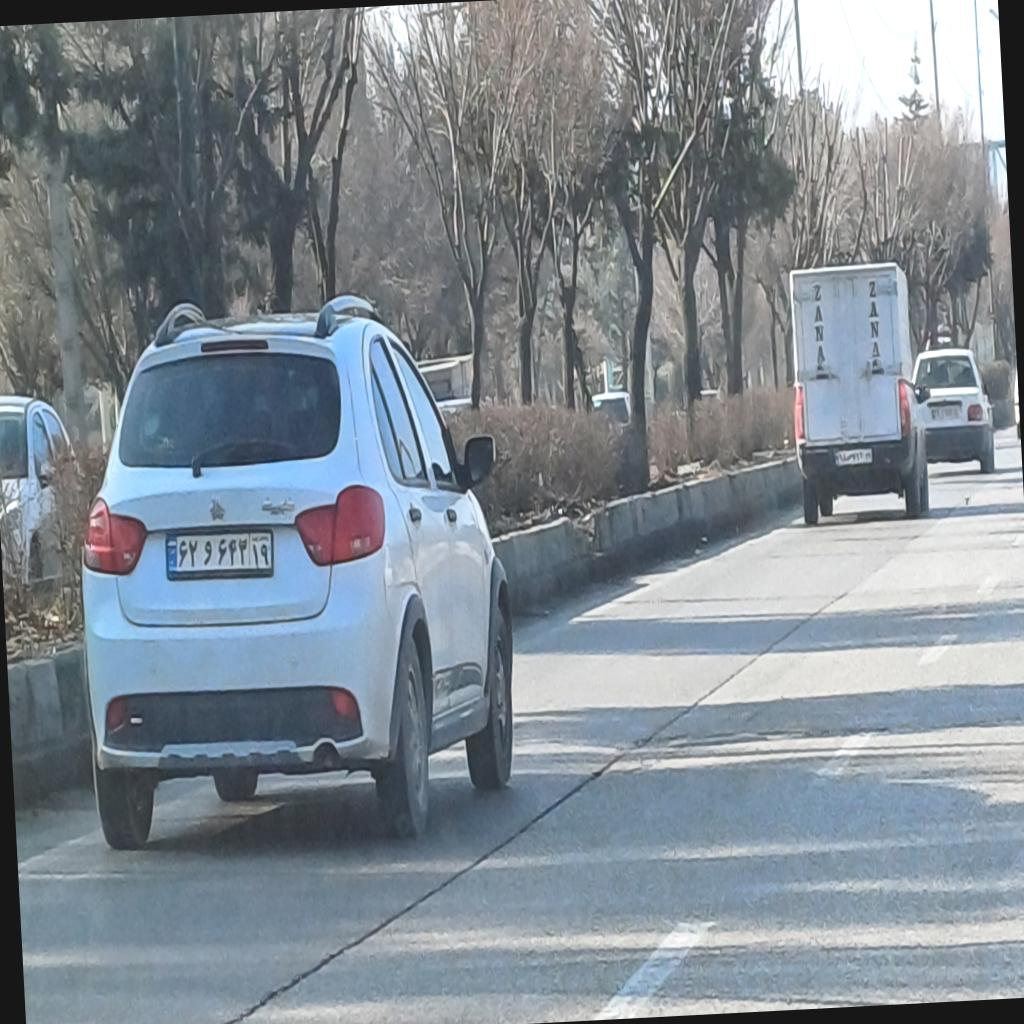Plates: (167, 526, 273, 574)
